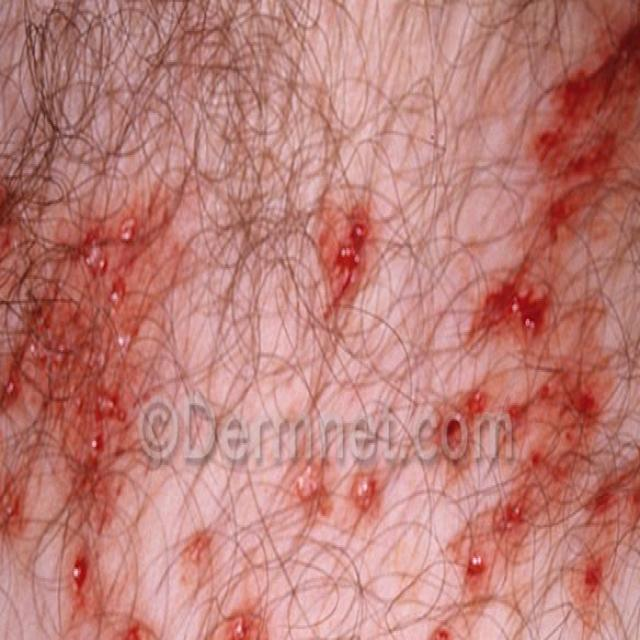Viral Infections: (469, 36, 640, 640), (0, 149, 176, 640), (226, 508, 398, 640), (313, 173, 378, 345)
